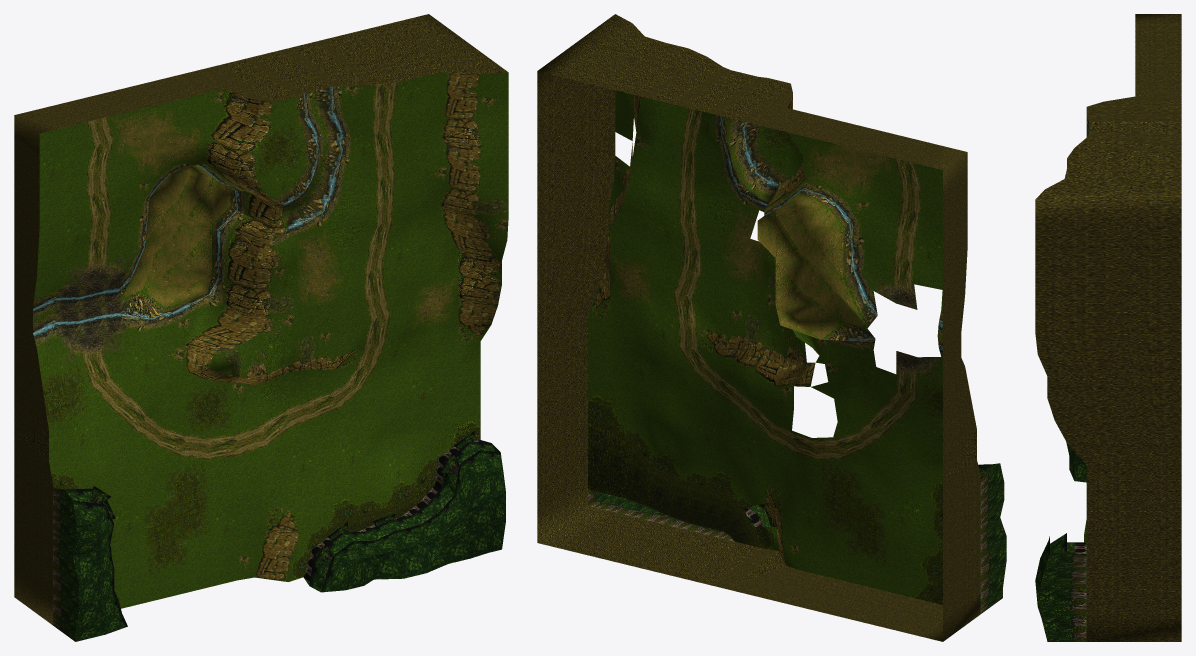
3 renders of one model, left to right at view 1: azimuth 30°, elevation 25°; view 2: azimuth 150°, elevation 25°; view 3: azimuth 270°, elevation 25°, orthographic. The views are drawn at different scales.
Visible parts, largest first — view 1: n1, _ledge, _gtregp1, zbed; view 2: n1, _ledge, zbed, _gtregp1; view 3: _ledge, _gtregp1.
Part boxes in pixels (x1=…): n1: x1=33, y1=72, x2=508, y2=608; _ledge: x1=14, y1=14, x2=507, y2=625; _gtregp1: x1=53, y1=431, x2=505, y2=641; zbed: x1=33, y1=87, x2=341, y2=333; n1: x1=588, y1=90, x2=942, y2=604; _ledge: x1=537, y1=14, x2=980, y2=641; zbed: x1=722, y1=116, x2=942, y2=348; _gtregp1: x1=588, y1=463, x2=1006, y2=613; _ledge: x1=1035, y1=14, x2=1181, y2=641; _gtregp1: x1=1035, y1=442, x2=1086, y2=641.
Bounding box in the file's own units: 180 × 200 × 60.
Materials: 37 (37 with a texture image).
